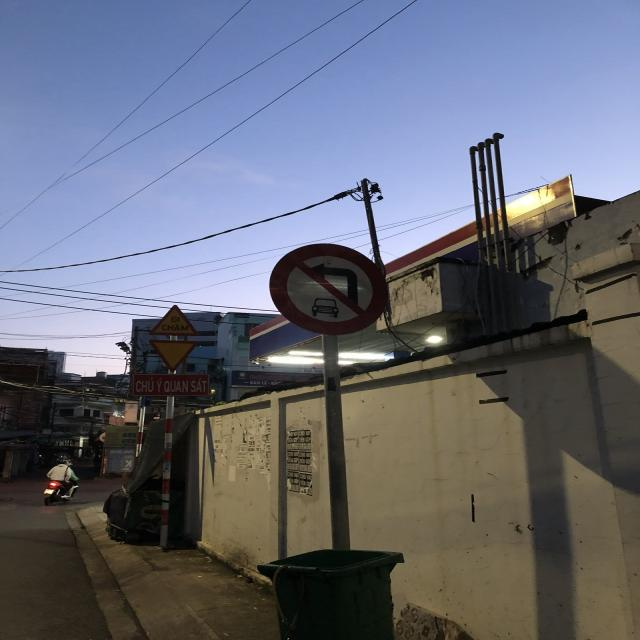Bien bao cam xe o to re trai: (262, 235, 394, 340)
Bien bao di cham: (145, 302, 202, 338)
Bien bao giao nhau voi duong uu tien: (147, 338, 201, 373)
